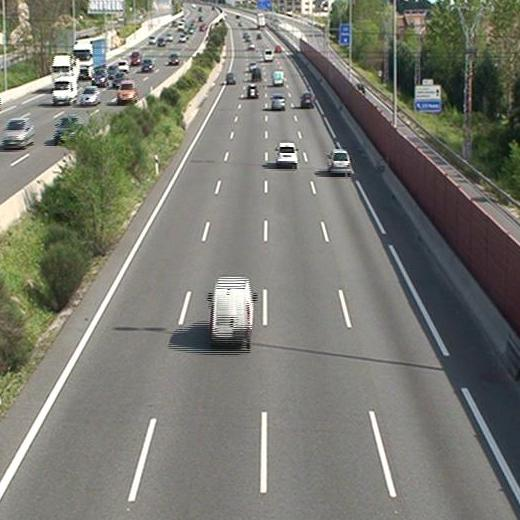car: (326, 148, 351, 174), (273, 142, 297, 167), (297, 92, 313, 108), (270, 95, 286, 109), (247, 85, 259, 98), (252, 68, 261, 83), (227, 74, 234, 83)
van: (208, 277, 256, 343), (271, 71, 284, 86), (262, 48, 275, 62)
